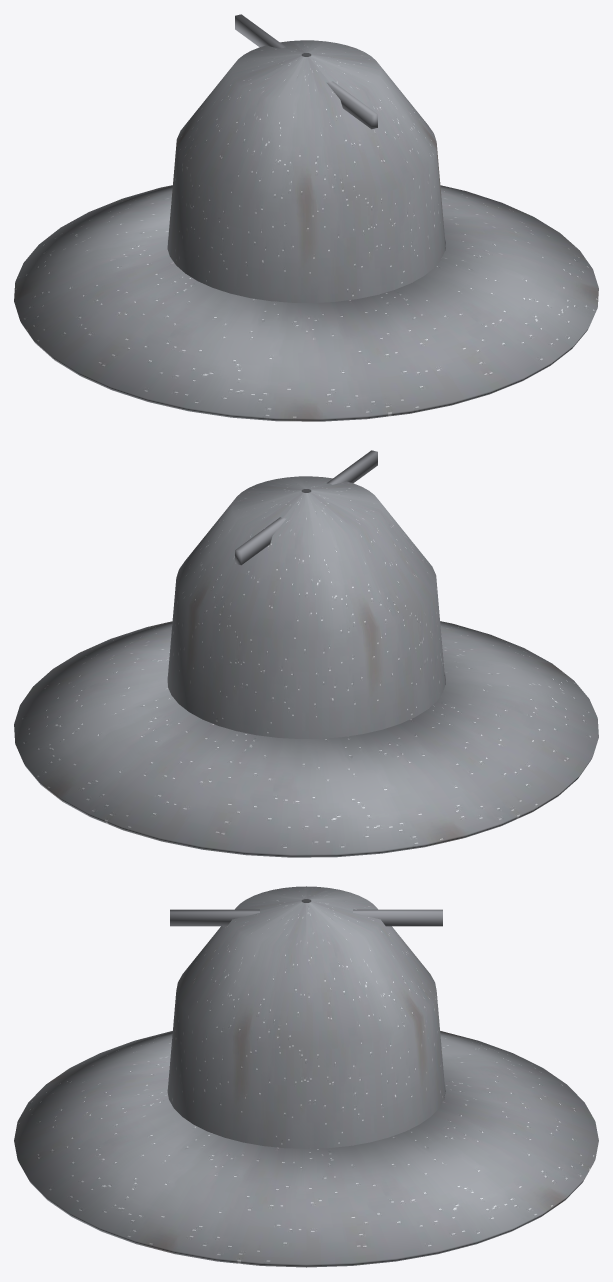
File: sapel_migfer.glb
The picture shows the model from 3 angles, top to bottom: view 1: azimuth 30°, elevation 25°; view 2: azimuth 150°, elevation 25°; view 3: azimuth 270°, elevation 25°; orthographic projection.
Visible parts, largest first — view 1: sapel_migfer; view 2: sapel_migfer; view 3: sapel_migfer.
Boxes of the visible parts, box(x1,y1,x2,y2) form: sapel_migfer: box(14, 14, 598, 421); sapel_migfer: box(14, 450, 598, 857); sapel_migfer: box(14, 886, 598, 1267).
Bounding box in the file's own units: 0.4717 × 0.2168 × 0.4717.
1 material, 1 textured.
